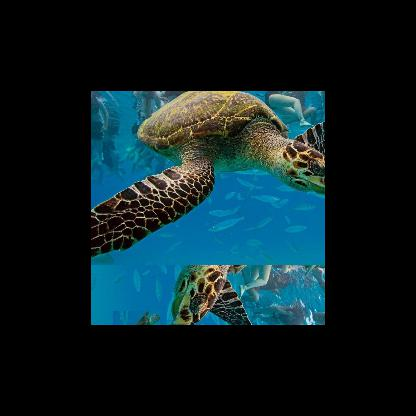turtle: (91, 90, 319, 304), (112, 310, 160, 324)
